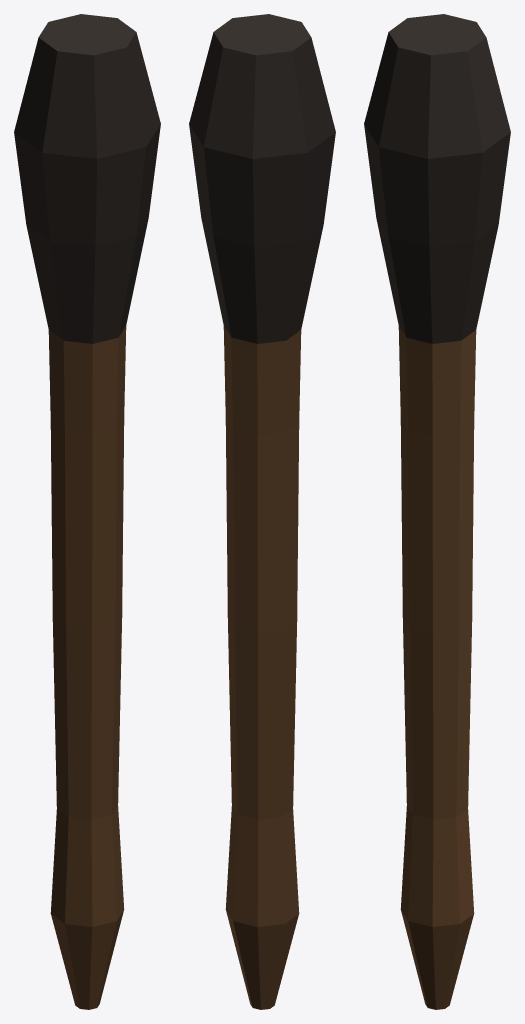
3 views of the same model, side by side, from view 1: azimuth 30°, elevation 25°; view 2: azimuth 150°, elevation 25°; view 3: azimuth 330°, elevation 25° (orthographic).
Visible parts, largest first — view 1: Torch; view 2: Torch; view 3: Torch.
Boxes of the visible parts, x1,y1,x2,y2 form: Torch: [14, 14, 160, 1009]; Torch: [189, 14, 335, 1009]; Torch: [364, 14, 510, 1009].
Size of the model in its own units: 0.0665 by 0.52 by 0.0665.
